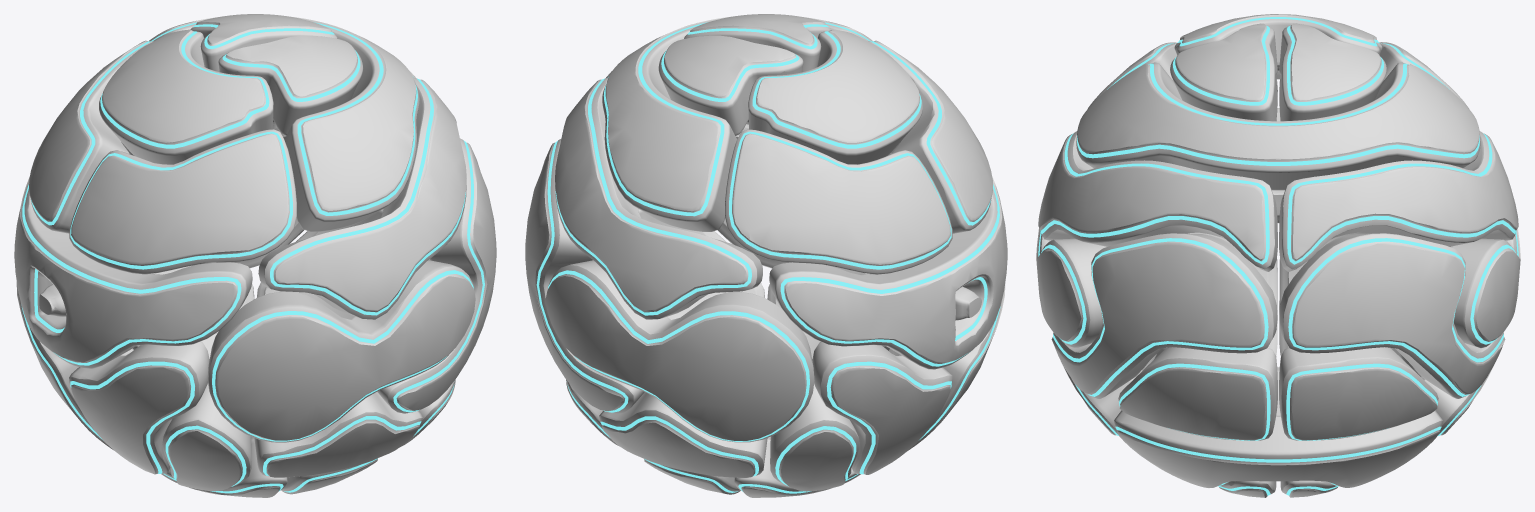
The picture shows the model from 3 angles, left to right: view 1: azimuth 30°, elevation 25°; view 2: azimuth 150°, elevation 25°; view 3: azimuth 270°, elevation 25°; orthographic projection.
Visible parts, largest first — view 1: polySurface2, polySurface20, polySurface25, polySurface18, polySurface19, polySurface22, polySurface6, polySurface21, polySurface24, polySurface12, polySurface4, polySurface7 (+6 smaller); view 2: polySurface1, polySurface21, polySurface25, polySurface17, polySurface19, polySurface22, polySurface5, polySurface20, polySurface23, polySurface13, polySurface3, polySurface8 (+6 smaller); view 3: polySurface19, polySurface12, polySurface13, polySurface17, polySurface18, polySurface14, polySurface15, polySurface16, polySurface23, polySurface24, polySurface2, polySurface1 (+9 smaller).
Part boxes in pixels (left/top/right/bottom): polySurface2: left=207, top=260, right=475, bottom=442; polySurface20: left=69, top=129, right=296, bottom=274; polySurface25: left=14, top=176, right=252, bottom=368; polySurface18: left=258, top=77, right=466, bottom=319; polySurface19: left=149, top=16, right=419, bottom=231; polySurface22: left=99, top=29, right=273, bottom=164; polySurface6: left=69, top=341, right=209, bottom=474; polySurface21: left=29, top=40, right=153, bottom=233; polySurface24: left=218, top=35, right=363, bottom=135; polySurface12: left=377, top=138, right=496, bottom=413; polySurface4: left=254, top=392, right=422, bottom=477; polySurface7: left=162, top=387, right=251, bottom=491; polySurface1: left=545, top=260, right=814, bottom=442; polySurface21: left=725, top=129, right=952, bottom=274; polySurface25: left=769, top=177, right=1007, bottom=369; polySurface17: left=555, top=78, right=762, bottom=319; polySurface19: left=602, top=16, right=872, bottom=231; polySurface22: left=748, top=29, right=923, bottom=164; polySurface5: left=812, top=341, right=952, bottom=474; polySurface20: left=868, top=40, right=992, bottom=233; polySurface23: left=658, top=35, right=803, bottom=135; polySurface13: left=525, top=139, right=644, bottom=413; polySurface3: left=599, top=392, right=767, bottom=477; polySurface8: left=770, top=387, right=859, bottom=491; polySurface19: left=1076, top=62, right=1480, bottom=190; polySurface12: left=1051, top=233, right=1277, bottom=398; polySurface13: left=1279, top=233, right=1505, bottom=398; polySurface17: left=1279, top=131, right=1518, bottom=271; polySurface18: left=1038, top=131, right=1277, bottom=271; polySurface14: left=1114, top=410, right=1442, bottom=487; polySurface15: left=1118, top=347, right=1277, bottom=440; polySurface16: left=1279, top=347, right=1438, bottom=440; polySurface23: left=1279, top=23, right=1386, bottom=121; polySurface24: left=1170, top=23, right=1277, bottom=121; polySurface2: left=1036, top=228, right=1106, bottom=347; polySurface1: left=1450, top=228, right=1520, bottom=347.
Size of the model in its own units: 18.94 by 18.94 by 19.
